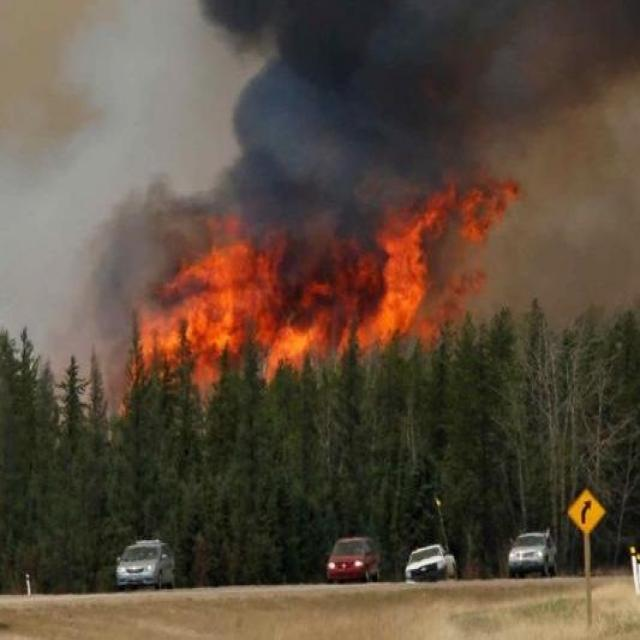Fire: (133, 196, 472, 362)
Smoke: (132, 0, 640, 240)
